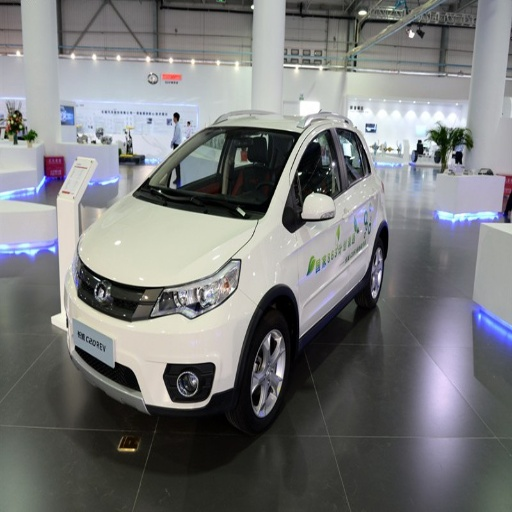front_bumper: (62, 267, 256, 423)
front_glass: (133, 128, 297, 218)
front_left_door: (291, 123, 345, 324)
